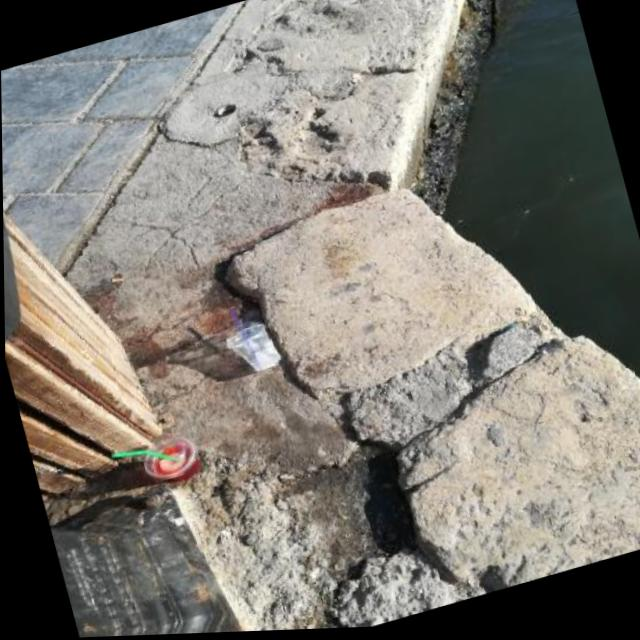plastic: (107, 429, 203, 500), (216, 296, 285, 381)
